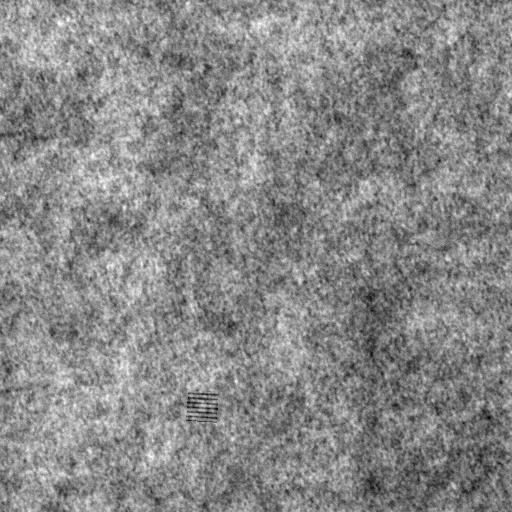impact: (183, 389, 222, 425)
